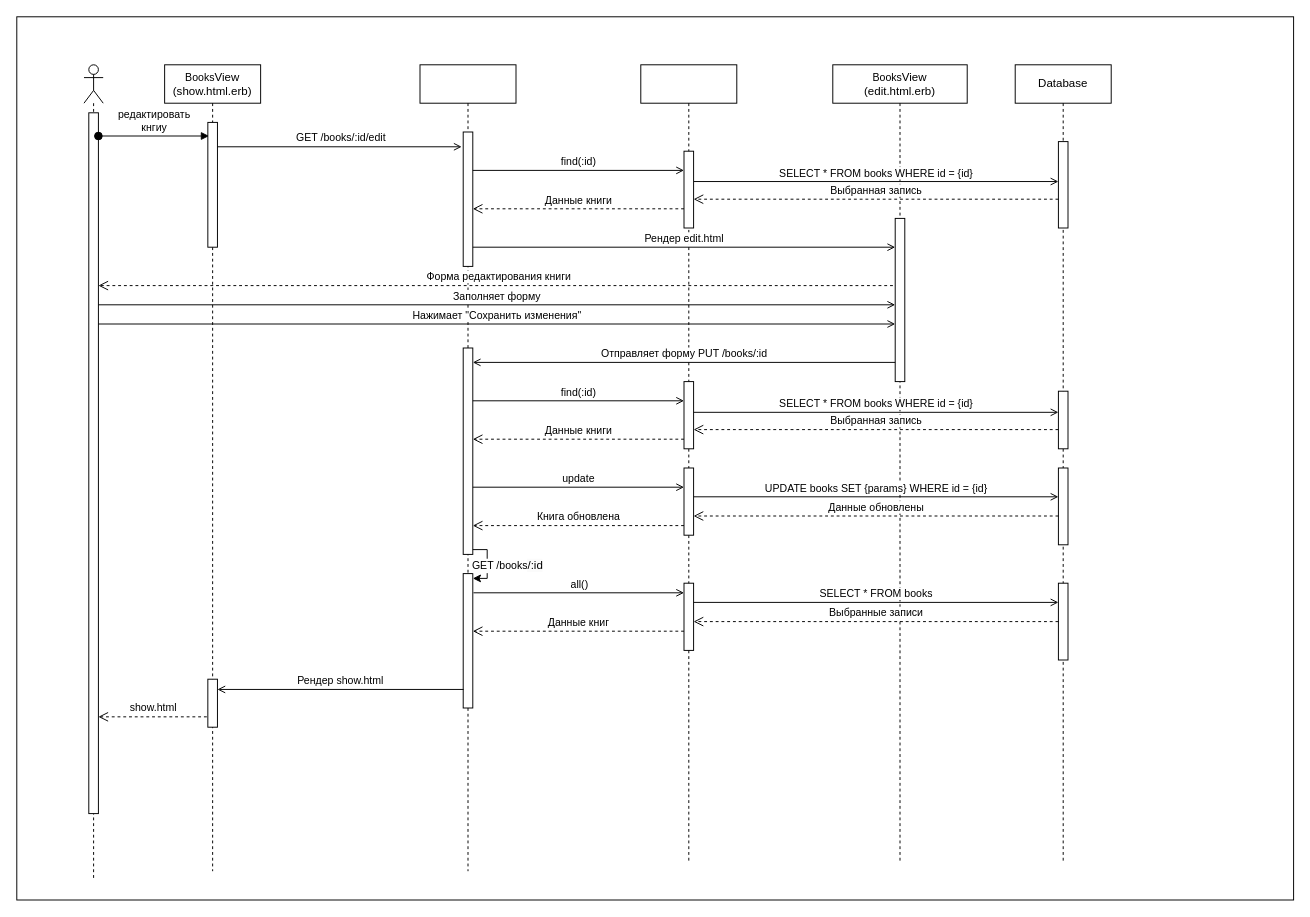
Some shapes in this 1310 by 917 pixel diagram are drawn without their labels. The box of each missing label's shape, as (x1, y1, x2, y2) in pixels:
Book: (640, 64, 737, 862)
Books Controller: (419, 64, 516, 871)
